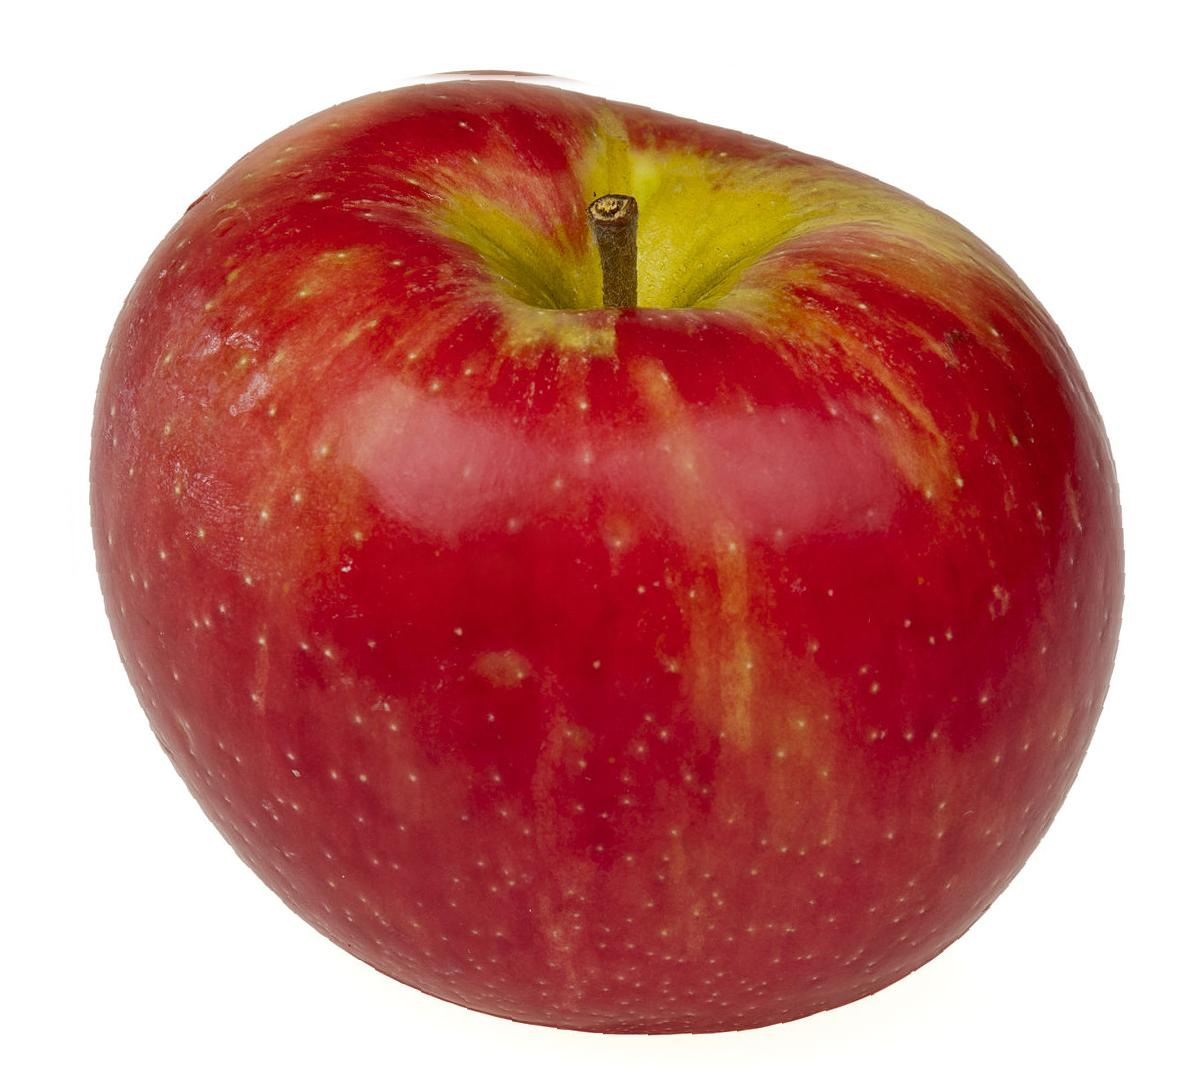Apple Fresh: (42, 65, 1146, 1083)
